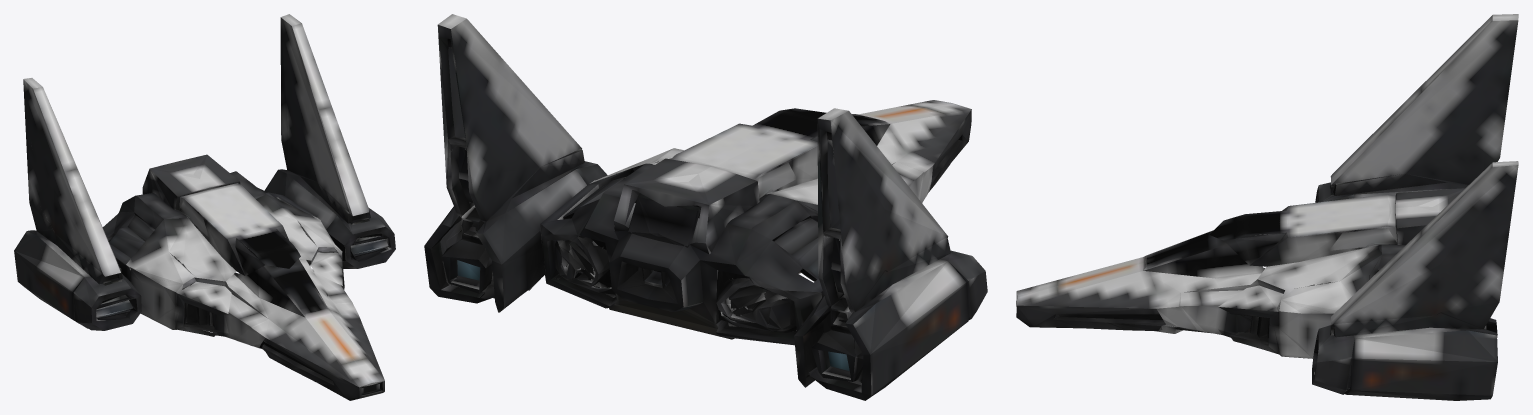
3 views of the same model, side by side, from view 1: azimuth 30°, elevation 25°; view 2: azimuth 150°, elevation 25°; view 3: azimuth 270°, elevation 25° (orthographic). The views are drawn at different scales.
Visible parts, largest first — view 1: object 1, geometry_0-moved; view 2: object 1, geometry_0-moved; view 3: object 1, geometry_0-moved.
Part boxes in pixels (x1=…): object 1: x1=14, y1=14, x2=395, y2=336; geometry_0-moved: x1=212, y1=258, x2=384, y2=400; object 1: x1=424, y1=14, x2=987, y2=400; geometry_0-moved: x1=852, y1=100, x2=971, y2=202; object 1: x1=1209, y1=14, x2=1518, y2=400; geometry_0-moved: x1=1016, y1=230, x2=1264, y2=338.
Size of the model in its own units: 0.8792 by 0.5596 by 1.06.
2 materials, 2 textured.
